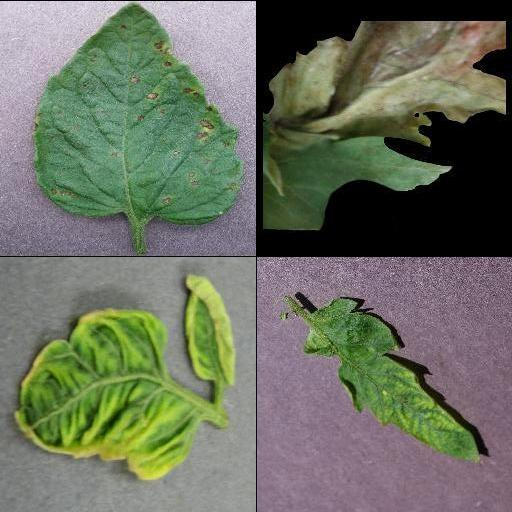Late Blight: (265, 21, 507, 229)
Mosaic Virus: (301, 296, 483, 462)
Septoria: (36, 2, 244, 226)
Yellow Leaf Curl Virus: (12, 308, 192, 479), (183, 273, 237, 388)
